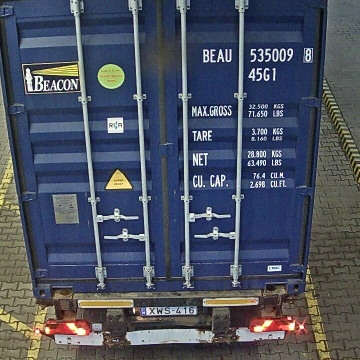serial_id: (203, 47, 313, 62)
